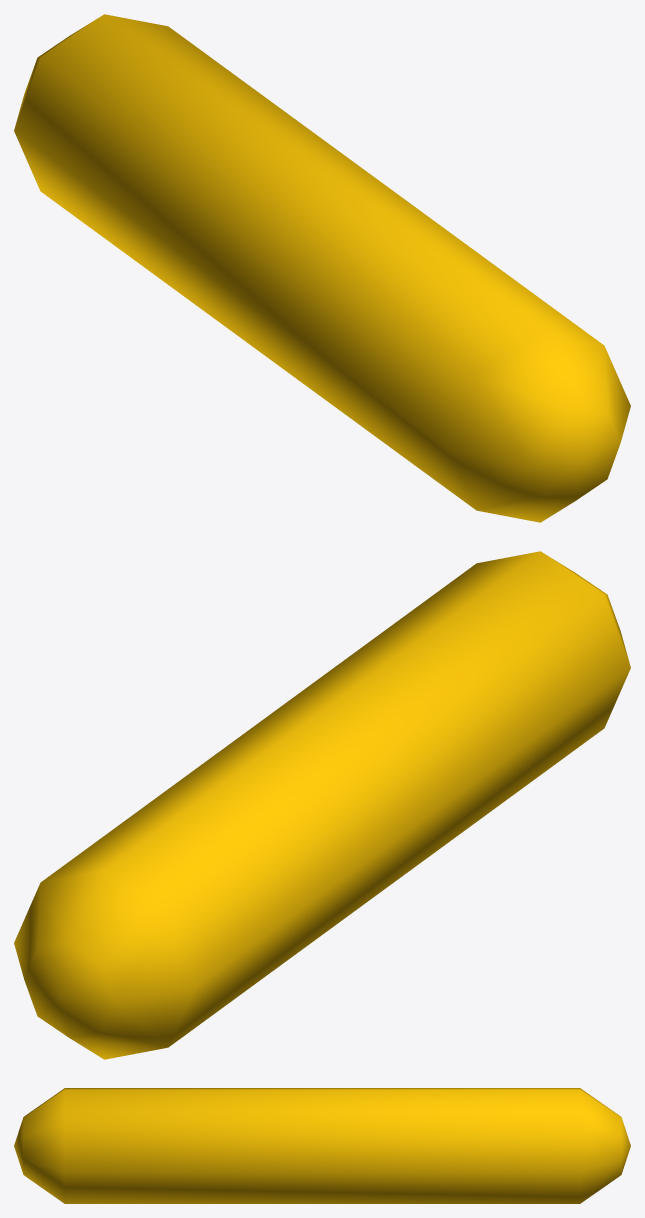
Rendered from Capsel.fbx.
3 renders of one model, top to bottom at view 1: azimuth 30°, elevation 25°; view 2: azimuth 150°, elevation 25°; view 3: azimuth 270°, elevation 25°, orthographic. The views are drawn at different scales.
Parts seen in each view (by area): view 1: Cupsel; view 2: Cupsel; view 3: Cupsel.
Boxes of the visible parts, bbox=[...] form: Cupsel: bbox=[14, 14, 630, 522]; Cupsel: bbox=[14, 551, 630, 1059]; Cupsel: bbox=[14, 1088, 630, 1203].
Bounding box in the file's own units: 100 × 100 × 500.
